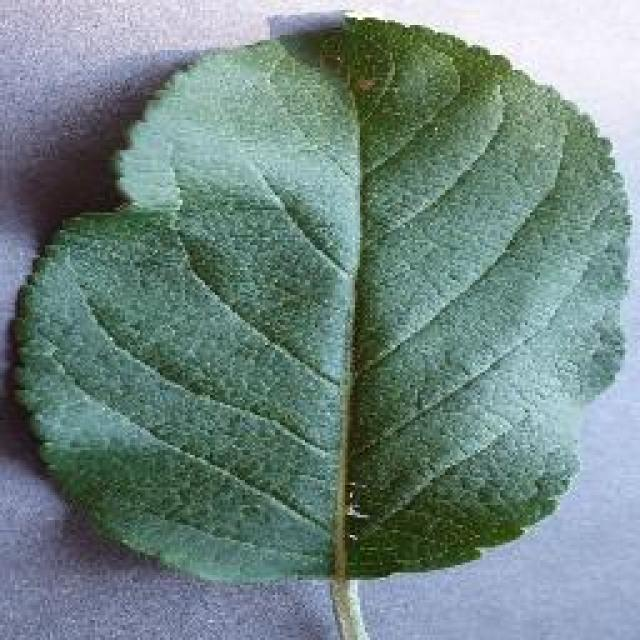apple healthy: (8, 10, 632, 592)
